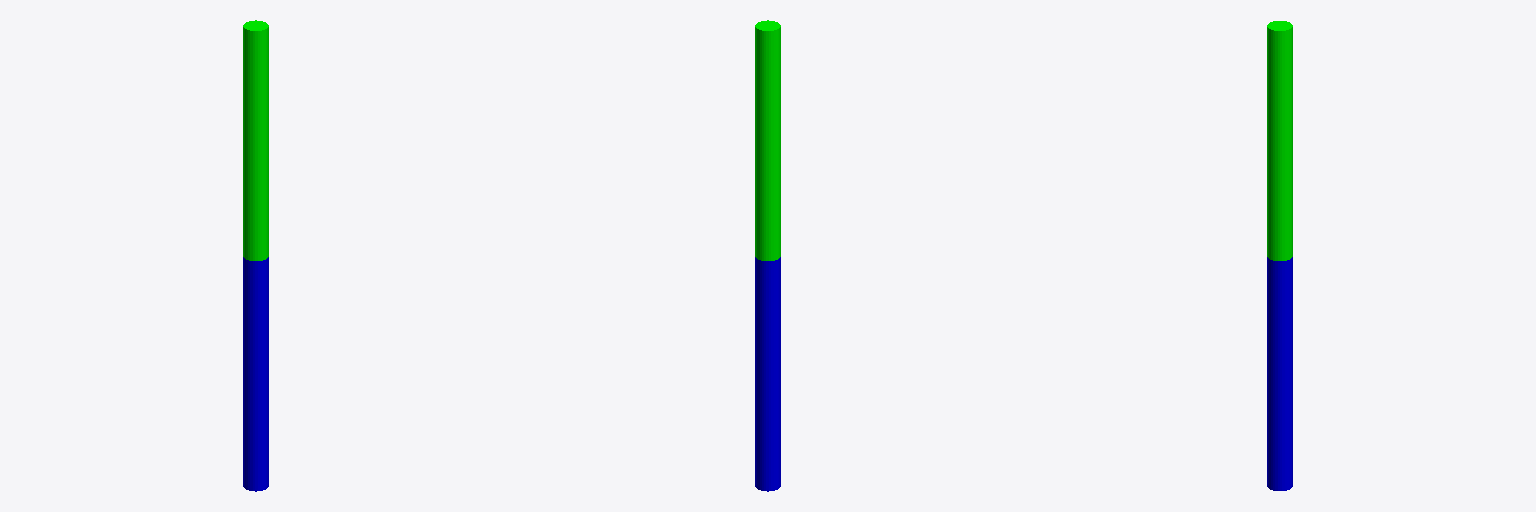
URDF robot description (rr_manipulator):
<?xml version="1.0"?>
<robot name="rr_manipulator">
  <!-- 첫 번째 링크 -->
  <link name="base_link"/>

  <!-- 첫 번째 조인트 (회전) -->
  <joint name="joint1" type="revolute">
    <parent link="base_link"/>
    <child link="link1"/>
    <origin xyz="0 0 0" rpy="0 0 0"/>
    <axis xyz="1 0 0"/>
    <limit lower="-3.14" upper="3.14" effort="10" velocity="1.0"/>
  </joint>

  <!-- 첫 번째 링크 -->
  <link name="link1">
    <visual>
      <origin xyz="0 0 0.5" rpy="0 0 0"/>
      <geometry>
        <cylinder radius="0.05" length="1.0"/>
      </geometry>
      <material name="blue">
        <color rgba="0 0 1 1"/>
      </material>
    </visual>
  </link>

  <!-- 두 번째 조인트 (회전) -->
  <joint name="joint2" type="revolute">
    <parent link="link1"/>
    <child link="link2"/>
    <origin xyz="0 0 1" rpy="0 0 0"/>
    <axis xyz="1 0 0"/>
    <limit lower="-3.14" upper="3.14" effort="10" velocity="1.0"/>
  </joint>

  <!-- 두 번째 링크 -->
  <link name="link2">
    <visual>
      <origin xyz="0 0 0.5" rpy="0 0 0"/>
      <geometry>
        <cylinder radius="0.05" length="1.0"/>
      </geometry>
      <material name="green">
        <color rgba="0 1 0 1"/>
      </material>
    </visual>
  </link>
</robot>

--- What the picture shows (computed from the rendered views, not written in the file) ---
The picture shows the robot from 3 angles, left to right: view 1: azimuth 30°, elevation 25°; view 2: azimuth 150°, elevation 25°; view 3: azimuth 270°, elevation 25°; orthographic projection.
Model rr_manipulator with 3 links and 2 joints (2 revolute), rooted at base_link, posed all joints at 0.
Visible links, largest first — view 1: link2, link1; view 2: link2, link1; view 3: link2, link1.
Boxes of the visible links, x1,y1,x2,y2 form: link2: (243, 20, 268, 260); link1: (243, 257, 268, 491); link2: (755, 20, 780, 260); link1: (755, 257, 780, 491); link2: (1267, 21, 1292, 260); link1: (1267, 257, 1292, 490).
Bounding box of the posed robot: 0.1 × 0.1 × 2 m (x, y, z).
Geometry: primitives only (box / cylinder / sphere), no mesh files.